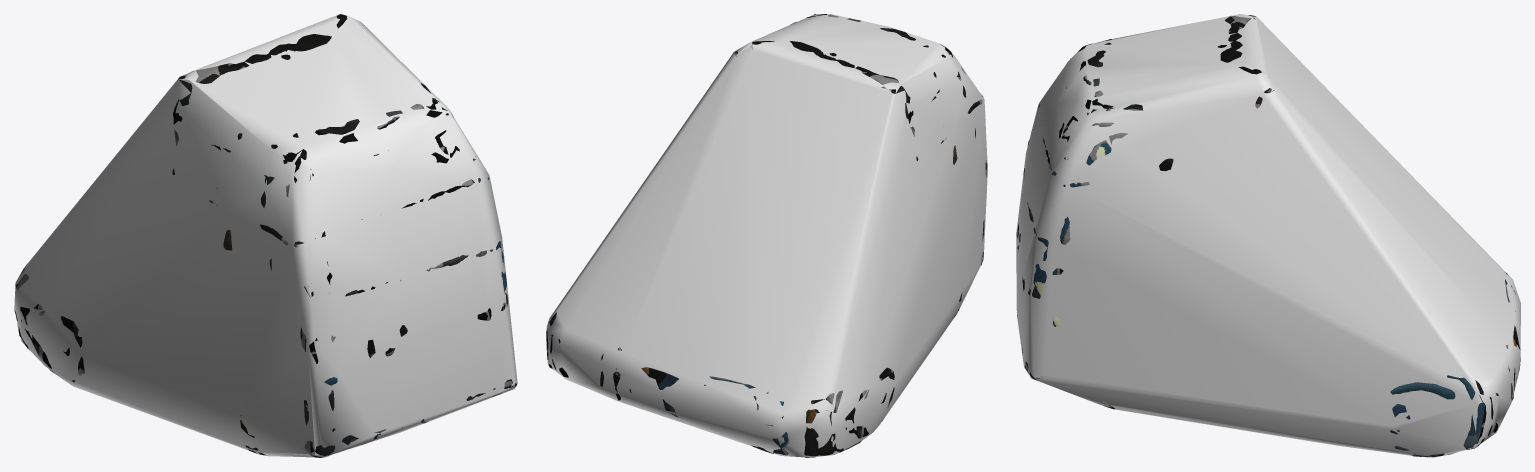
Rendered from improved-prepared.glb.
3 renders of one model, left to right at view 1: azimuth 30°, elevation 25°; view 2: azimuth 150°, elevation 25°; view 3: azimuth 270°, elevation 25°, orthographic. The views are drawn at different scales.
Visible parts, largest first — view 1: COL_Hull, geometry_0_LOD0; view 2: COL_Hull, geometry_0_LOD0; view 3: COL_Hull, geometry_0_LOD0.
Part boxes in pixels (<box>): COL_Hull: <box>14,14,517,457</box>; geometry_0_LOD0: <box>14,14,516,457</box>; COL_Hull: <box>546,14,987,457</box>; geometry_0_LOD0: <box>546,14,987,457</box>; COL_Hull: <box>1016,14,1520,457</box>; geometry_0_LOD0: <box>1017,15,1520,457</box>.
Size of what is drawn, in the model's own units: 0.759 by 0.7712 by 1.
Materials: 1 (1 with a texture image).
